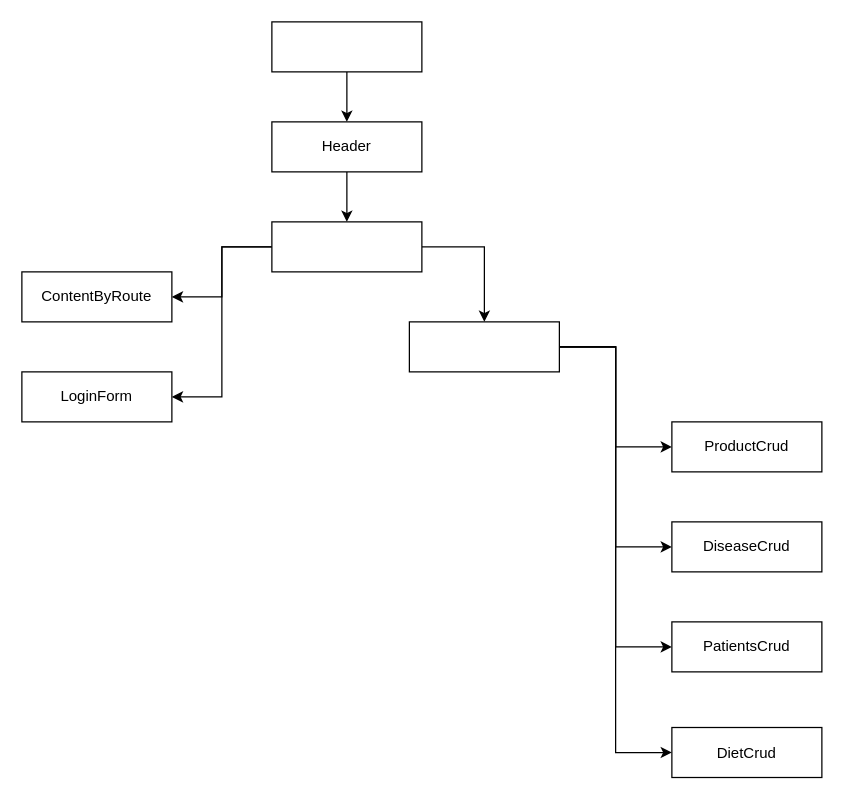
This 844x800 diagram has some shape labels left out. The shapes that lost their labels are listed below. From the top down, each one's centre as x and y in pixels, then its label:
At (x=346, y=46): "App".
At (x=346, y=246): "Layout".
At (x=483, y=346): "UserCrud".
